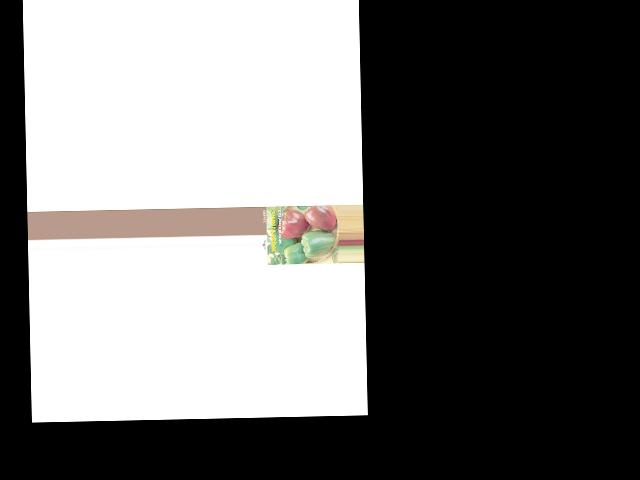bell_pepper: (281, 244, 312, 265)
